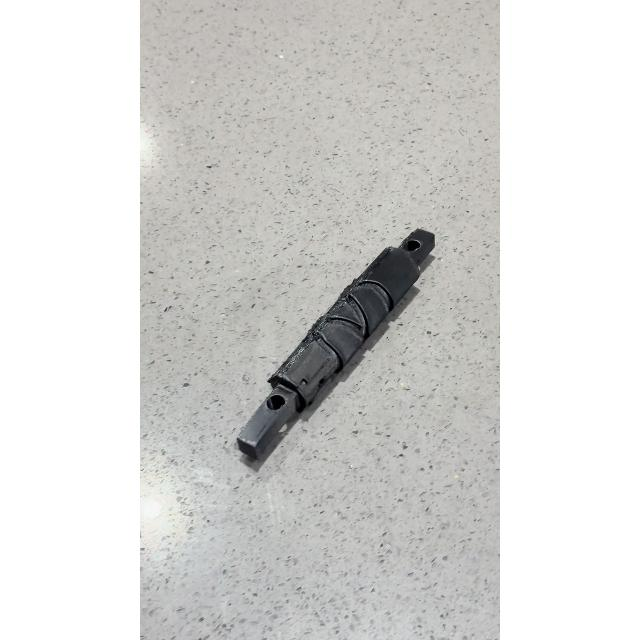Pieza_1: (230, 215, 440, 470)
